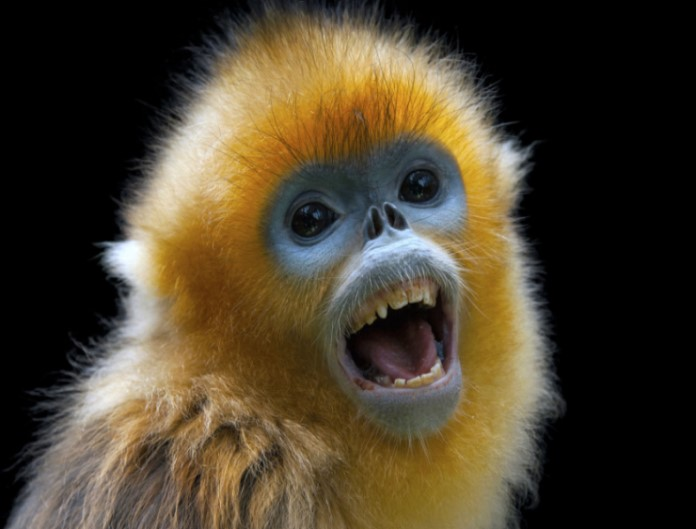GoldenSnub-Nosed: (114, 46, 517, 519)
